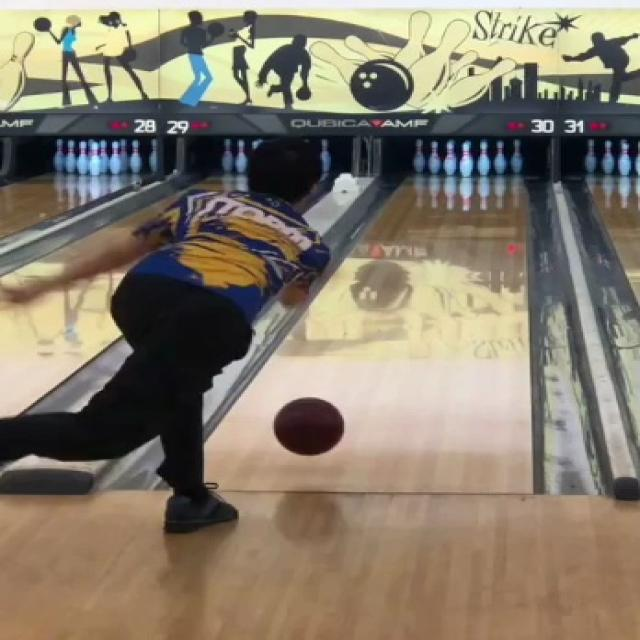alley: (208, 175, 530, 492)
balls: (274, 398, 342, 454)
bottle: (414, 139, 520, 175)
